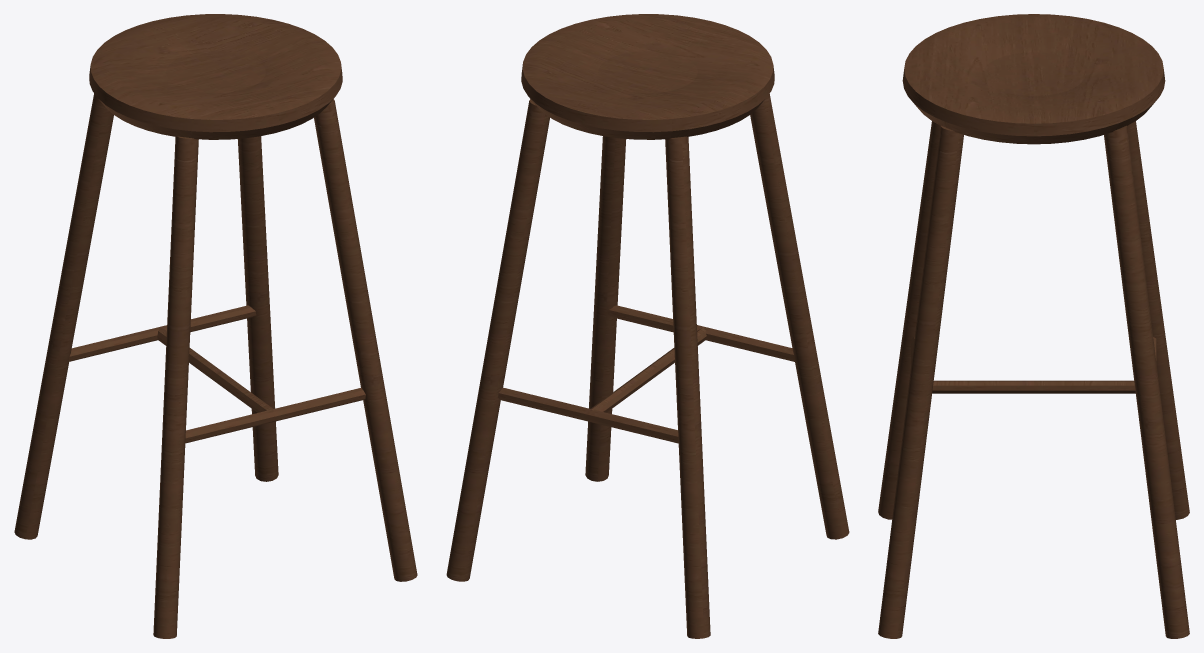
Rendered from walnut.glb.
3 views of the same model, side by side, from view 1: azimuth 30°, elevation 25°; view 2: azimuth 150°, elevation 25°; view 3: azimuth 270°, elevation 25° (orthographic). The views are drawn at different scales.
Visible parts, largest first — view 1: walnut; view 2: walnut; view 3: walnut.
Part boxes in pixels (<box>): walnut: <box>14,14,417,638</box>; walnut: <box>446,14,849,638</box>; walnut: <box>878,14,1189,638</box>.
Size of the model in its own units: 0.4227 by 0.7627 by 0.4227.
Materials: 1 (1 with a texture image).
